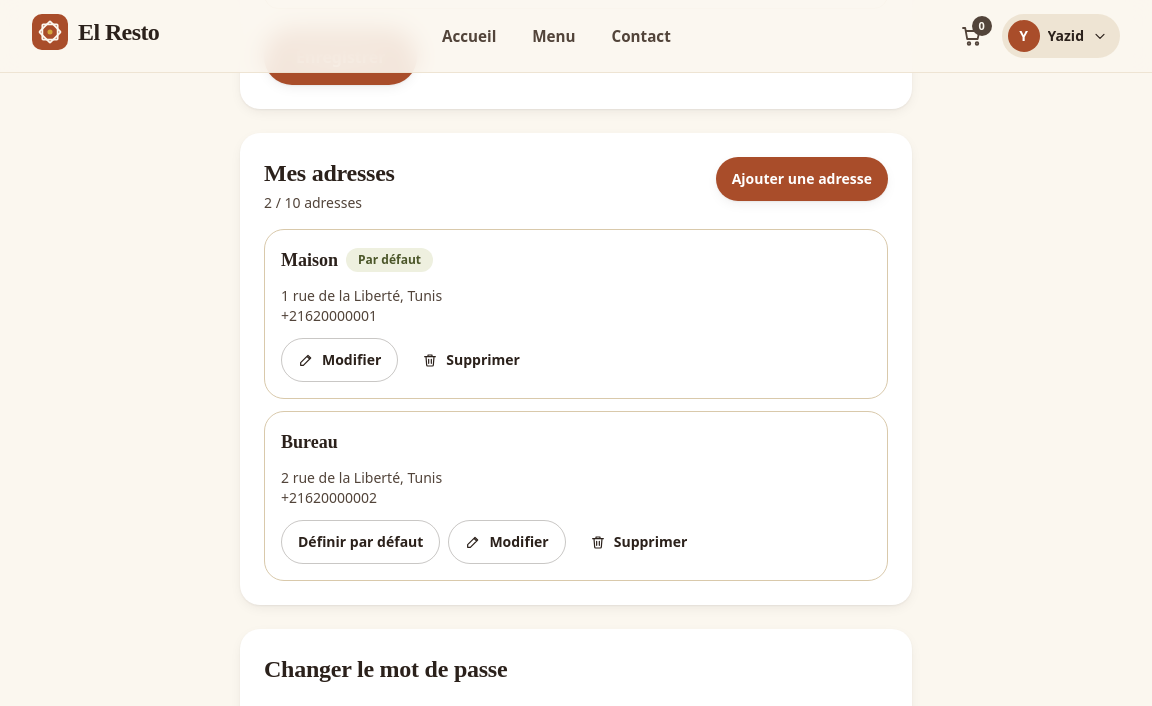
Scenario: profil : Mes adresses › supprimer l'adresse par défaut avertit que la plus ancienne la remplacera
The width and height of the screenshot is (1152, 706).
(page scrolled)
Click the button "Supprimer" below "1 rue de la Liberté" at (471, 360), box top-left (406, 338), bottom-right (536, 382)
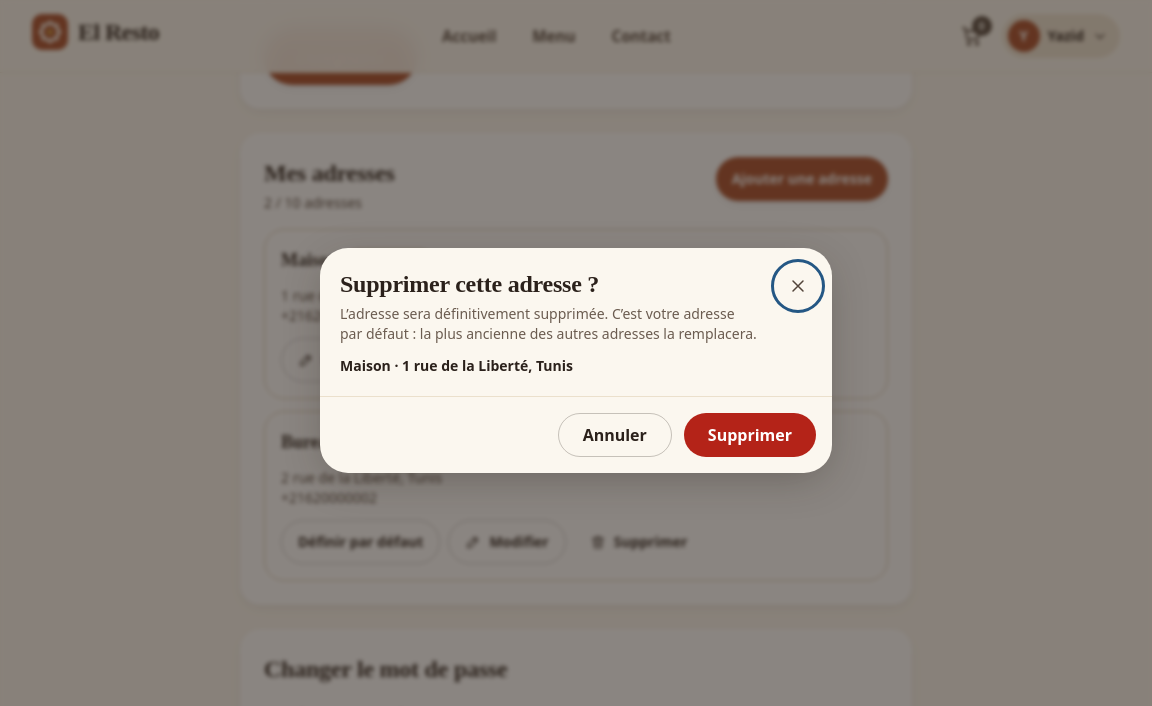
expect the text "par défaut" is shown: met, box top-left (340, 304), bottom-right (757, 342)
